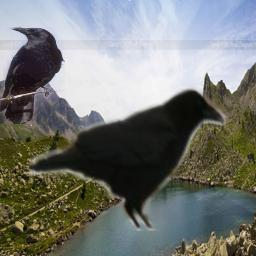Crow: (29, 80, 231, 231), (0, 27, 65, 124)
